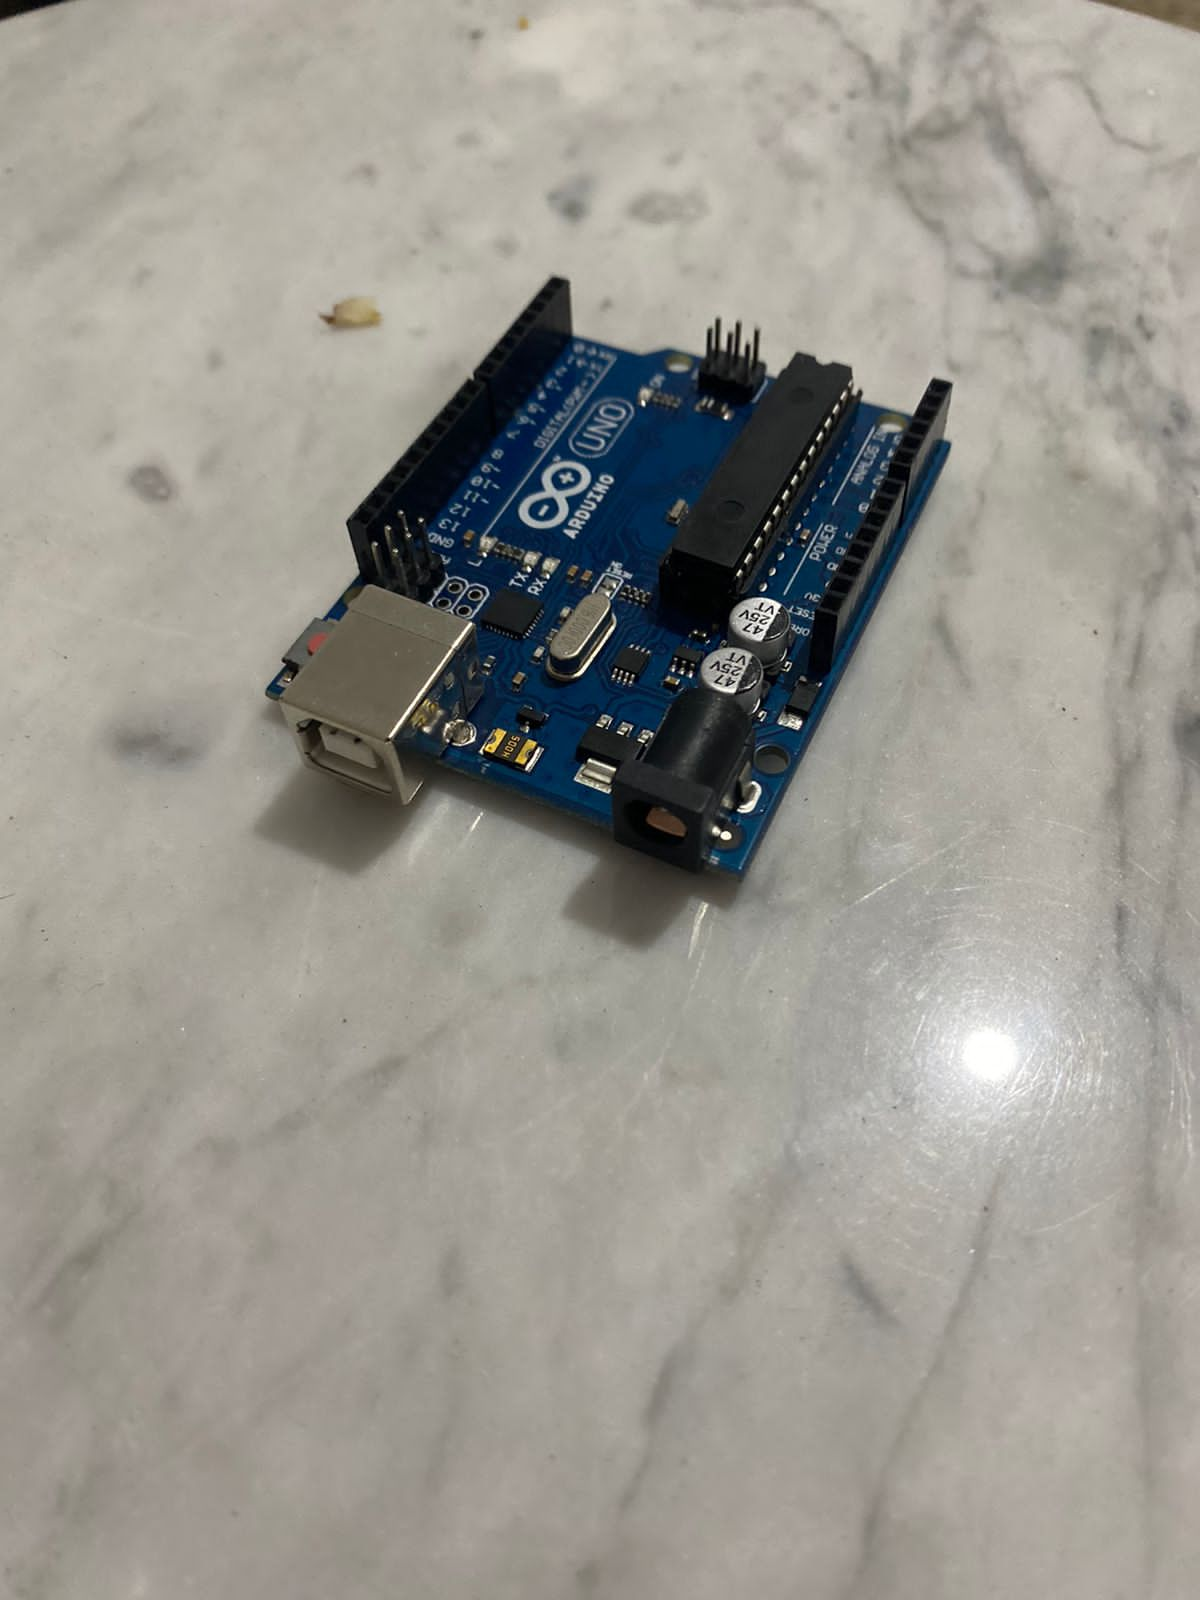arduino-uno: (257, 268, 961, 908)
